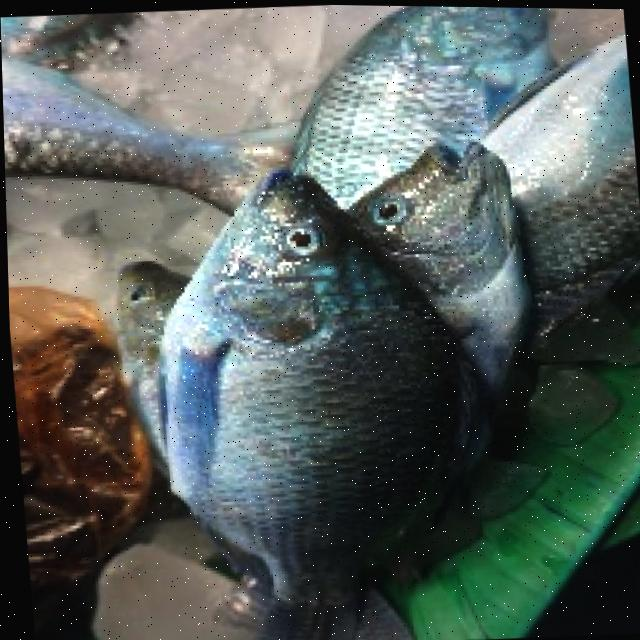Fresh: (140, 150, 461, 640), (350, 131, 491, 261)
